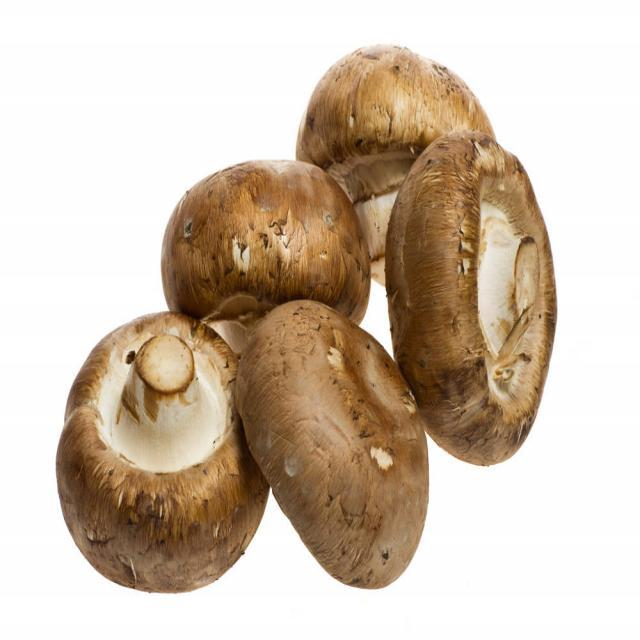Agaricus bisporus: (388, 133, 578, 462), (236, 299, 431, 587), (66, 314, 270, 585), (310, 42, 493, 270), (154, 158, 377, 320)
